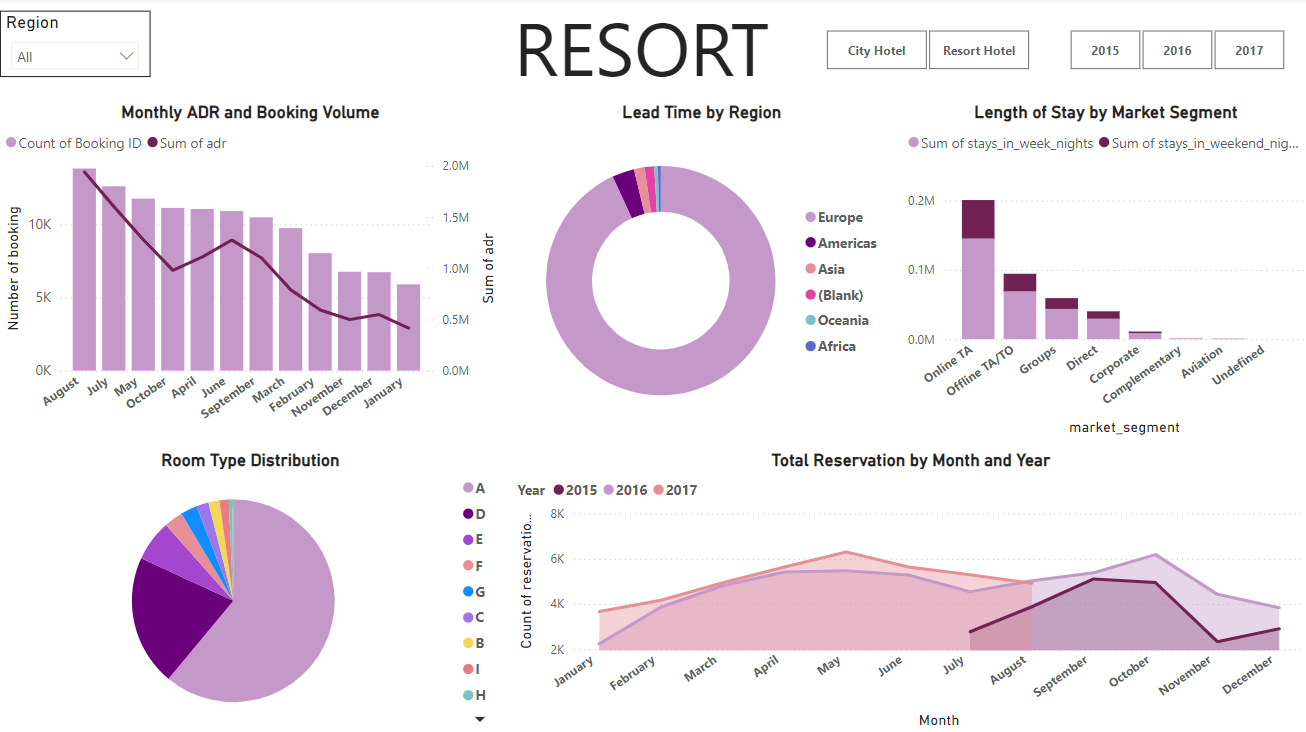

Layout of this report page (visuals, bound fields, positions):
{"tool":"powerbi","page":{"name":"RESORT","canvas":[1280,720],"ordinal":1},"visuals":[{"type":"textbox","box":[498.1,0,284,102.9],"z":0},{"type":"donutChart","title":"Lead Time by Region","fields":{"Category":["Geo data.region"],"Y":["Sum(hotel_bookings.lead_time)"]},"box":[500.9,102.9,370.5,330.7],"z":1000},{"type":"pieChart","title":"Room Type Distribution","fields":{"Category":["hotel_bookings.assigned_room_type"],"Y":["CountNonNull(hotel_bookings.Booking ID)"]},"box":[0,443.2,489.9,277.2],"z":2000},{"type":"columnChart","title":"Length of Stay by Market Segment","fields":{"Category":["hotel_bookings.market_segment"],"Y":["Sum(hotel_bookings.stays_in_week_nights)","Sum(hotel_bookings.stays_in_weekend_nights)"]},"box":[882.3,102.9,397.9,330.7],"z":3000},{"type":"areaChart","title":"Total Reservation by Month and Year","fields":{"Category":["hotel_bookings.Date .Variation.Date Hierarchy.Month"],"Y":["CountNonNull(hotel_bookings.reservation_status)"],"Series":["hotel_bookings.Date .Variation.Date Hierarchy.Year"]},"box":[500.9,443.2,779.4,277.2],"z":4000},{"type":"lineClusteredColumnComboChart","title":"Monthly ADR and Booking Volume","fields":{"Y":["CountNonNull(hotel_bookings.Booking ID)"],"Y2":["Sum(hotel_bookings.adr)"],"Category":["hotel_bookings.arrival_date_month"]},"box":[0,102.9,489.9,330.7],"z":5000},{"type":"slicer","fields":{"Values":["hotel_bookings.hotel"]},"box":[782.2,26.1,248.4,52.1],"z":6000},{"type":"slicer","fields":{"Values":["hotel_bookings.Date .Variation.Date Hierarchy.Year"]},"box":[1020.9,26.1,259.3,52.1],"z":7000},{"type":"slicer","title":"Region","fields":{"Values":["Geo data.region","Geo data.Country"]},"box":[0,13.7,146.8,64.5],"z":8000}]}

Visuals, with their boxes in screenshot pixels (x1, y1, x2, y2), scaled from the page's 1280x720 canvas onto the 1306x732 screenshot:
textbox: [508,0,798,105]
"Lead Time by Region" donutChart: [511,105,889,441]
"Room Type Distribution" pieChart: [0,451,500,731]
"Length of Stay by Market Segment" columnChart: [900,105,1305,441]
"Total Reservation by Month and Year" areaChart: [511,451,1305,731]
"Monthly ADR and Booking Volume" lineClusteredColumnComboChart: [0,105,500,441]
slicer - hotel_bookings.hotel: [798,27,1052,80]
slicer - hotel_bookings.Date .Variation.Date Hierarchy.Year: [1042,27,1305,80]
"Region" slicer: [0,14,150,80]
